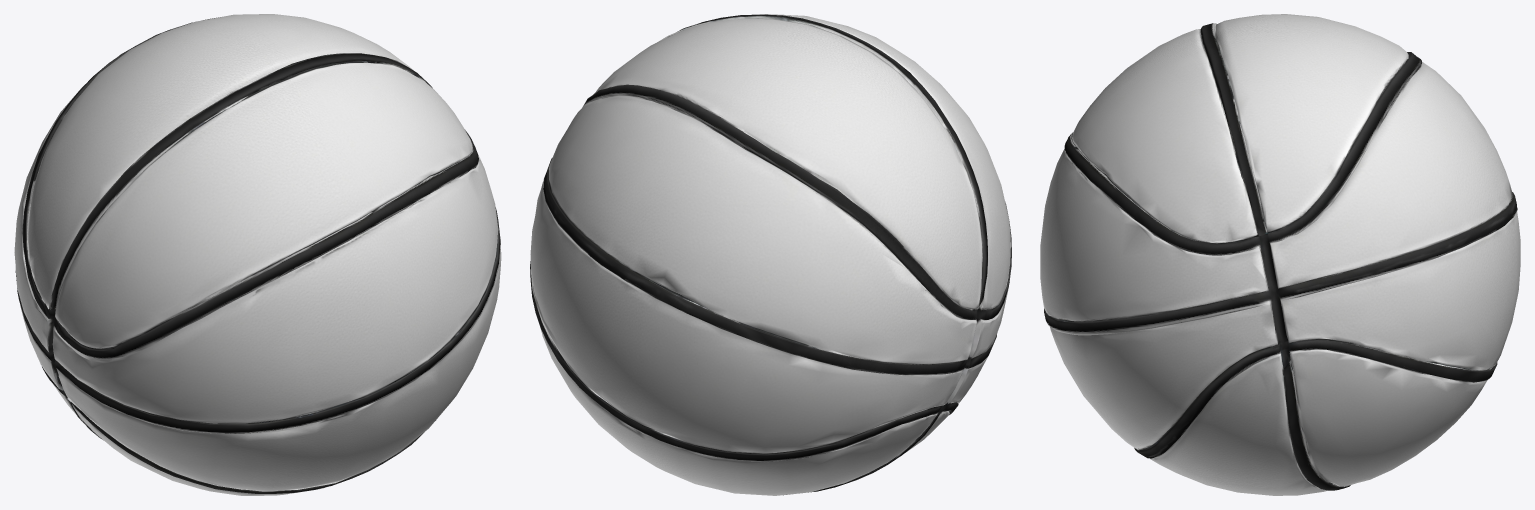
File: 篮球3d模型.glb
3 views of the same model, side by side, from view 1: azimuth 30°, elevation 25°; view 2: azimuth 150°, elevation 25°; view 3: azimuth 270°, elevation 25° (orthographic).
Visible parts, largest first — view 1: tripo_node_af5f9ec0-71f1-40a9-b4db-f65e6b0ff333; view 2: tripo_node_af5f9ec0-71f1-40a9-b4db-f65e6b0ff333; view 3: tripo_node_af5f9ec0-71f1-40a9-b4db-f65e6b0ff333.
Part boxes in pixels (x1,y1,x2,y2): tripo_node_af5f9ec0-71f1-40a9-b4db-f65e6b0ff333: (14, 14, 501, 495); tripo_node_af5f9ec0-71f1-40a9-b4db-f65e6b0ff333: (530, 14, 1011, 495); tripo_node_af5f9ec0-71f1-40a9-b4db-f65e6b0ff333: (1040, 14, 1520, 495).
Bounding box in the file's own units: 0.998 × 0.998 × 0.998.
Materials: 1 (1 with a texture image).
